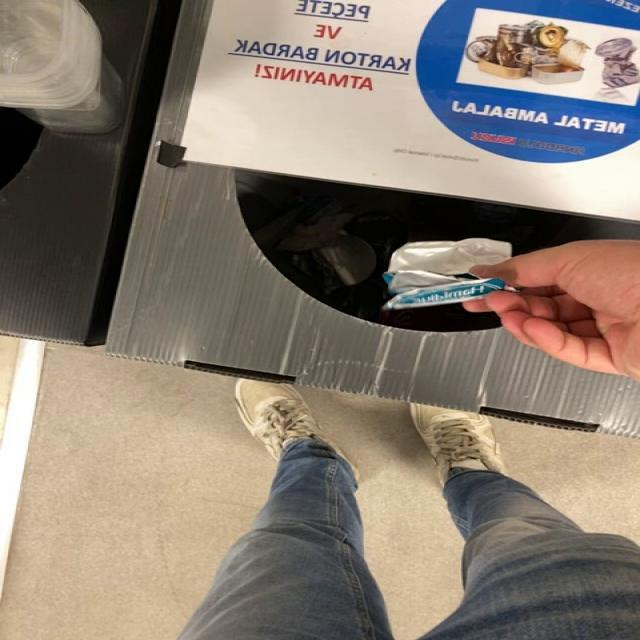Metal: (383, 238, 512, 310)
